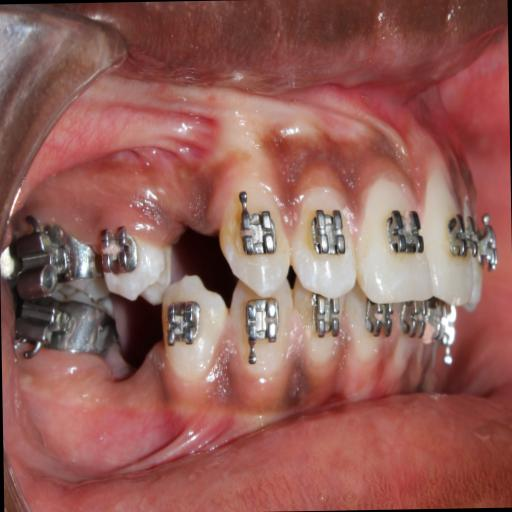correct_brace: (157, 272, 228, 398), (232, 189, 284, 266), (96, 222, 138, 284), (163, 297, 207, 356), (382, 206, 426, 264), (306, 206, 348, 263)
incorrect_brace: (290, 174, 360, 306)
